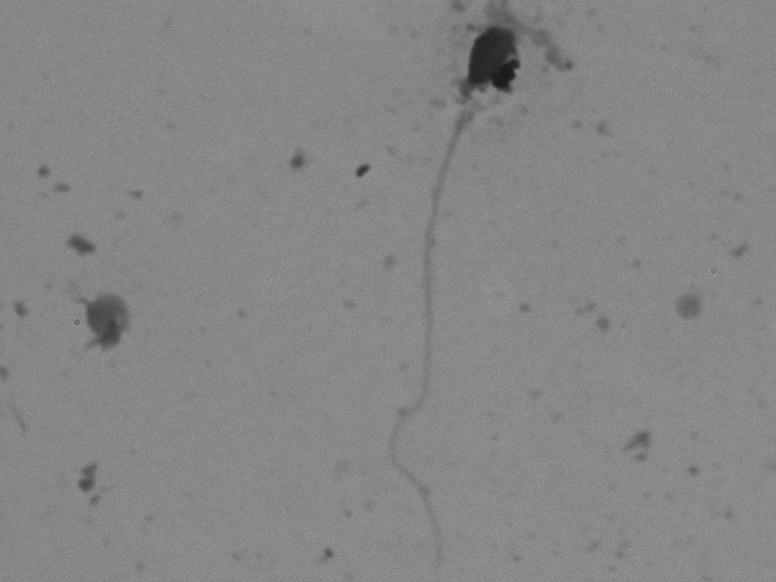Abnormal: (367, 22, 524, 573)
